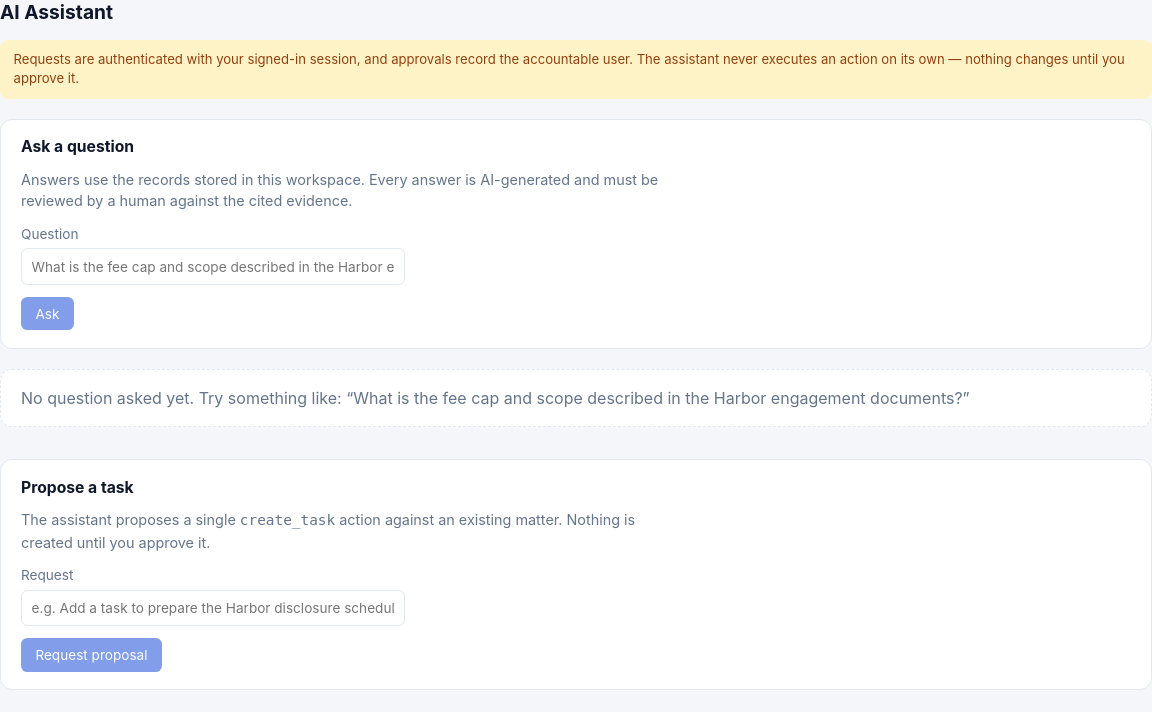
AssistantPage › renders a proposal and approves it, showing the confirmed task ID
In the field labelled "Request": (213, 608) [21, 590, 405, 626], type "Add a task for Harbor"
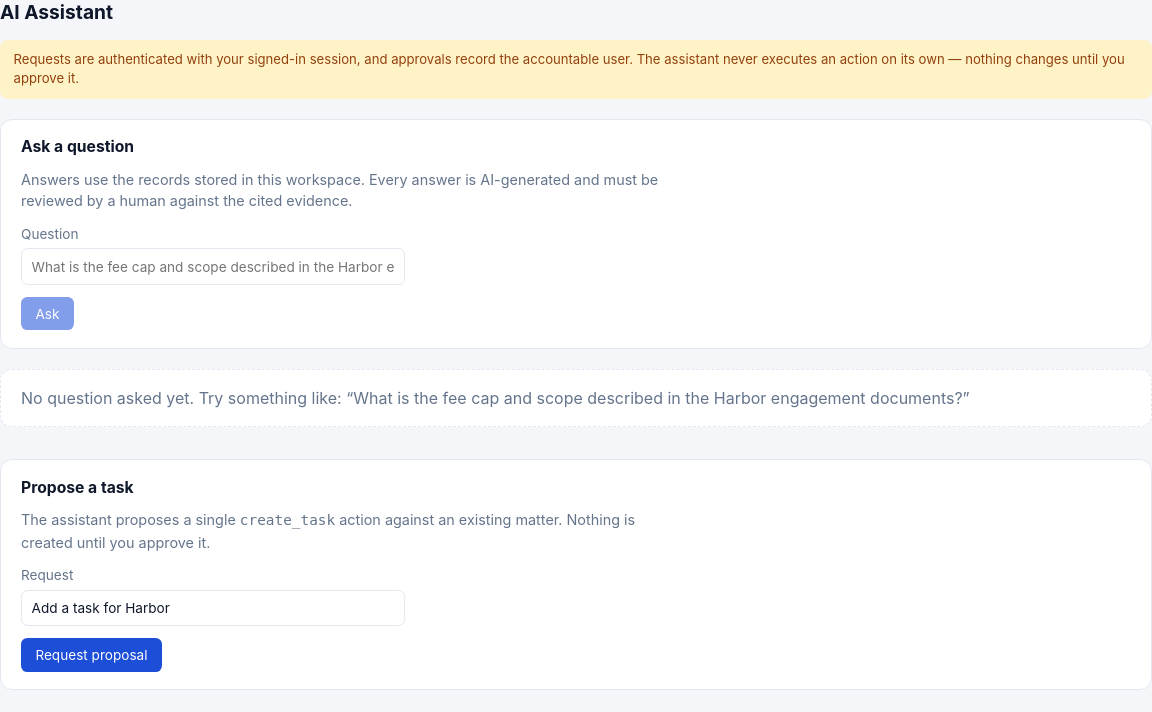
Click the button "Request proposal": (91, 655) [21, 638, 162, 672]
(page scrolled)
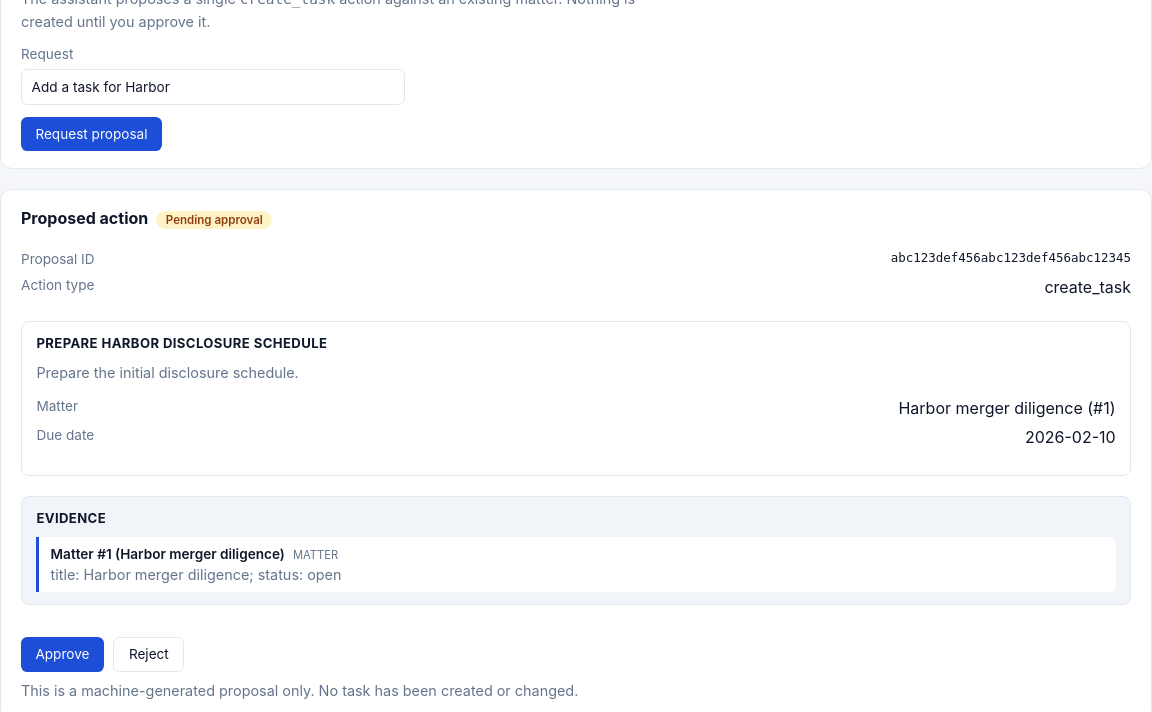
Expected: the heading "Prepare Harbor disclosure schedule" is shown, [36, 335, 327, 351]
Expected: the text "abc123def456abc123def456abc12345" is shown, [891, 249, 1131, 269]
Expected: the text "2026-02-10" is shown, [1025, 425, 1116, 449]
Click the button "Approve": (62, 655) [21, 637, 104, 672]
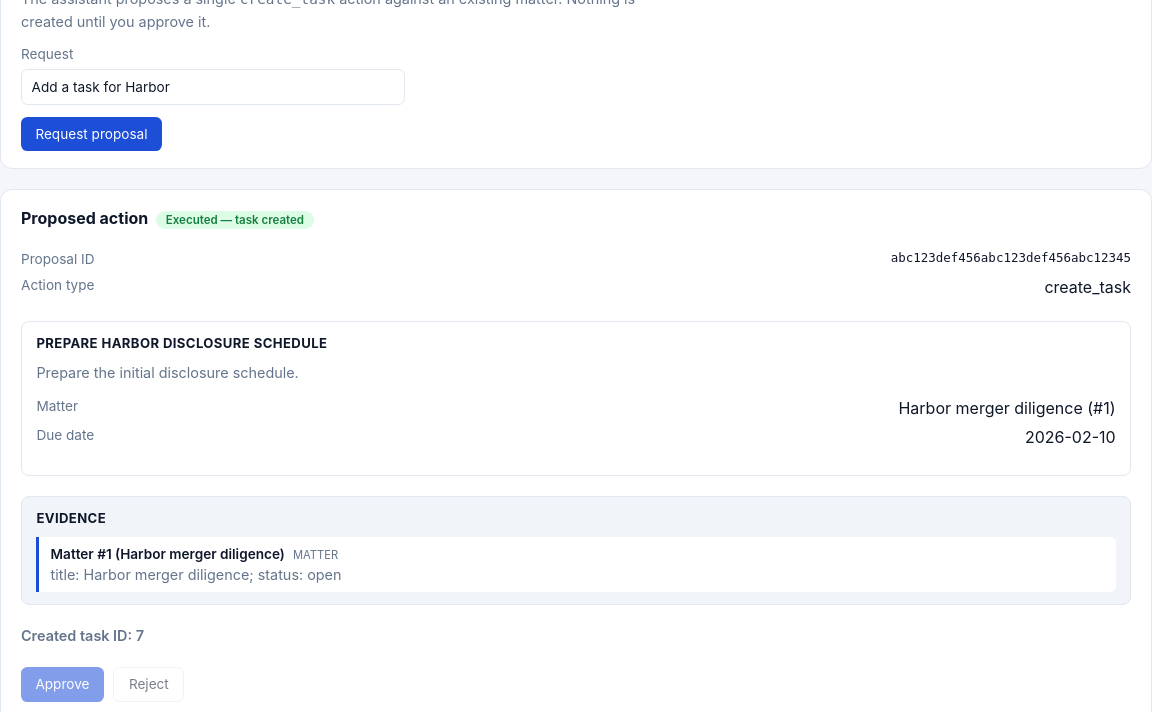
Expected: the text "Created task ID: 7" is shown, [21, 627, 144, 644]
